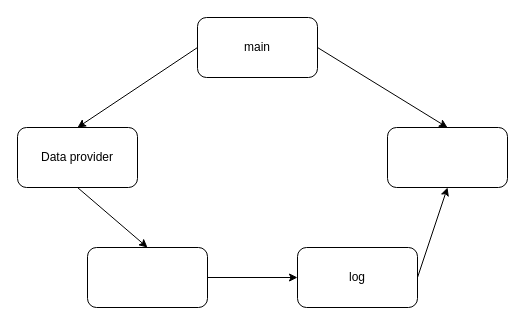
Image size: 525x325. Some labels were removed from this diagram. Each missing label, with the centre of its shape:
"generator" goes at (447,157).
"UI" goes at (147,277).
